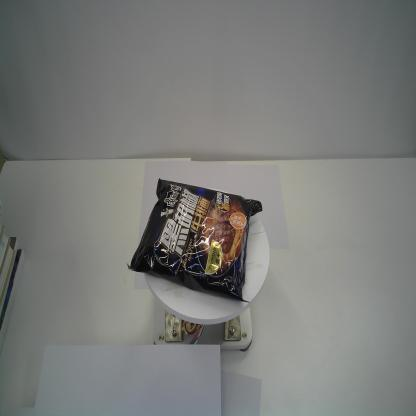Instant Noodles: (126, 175, 264, 304)
